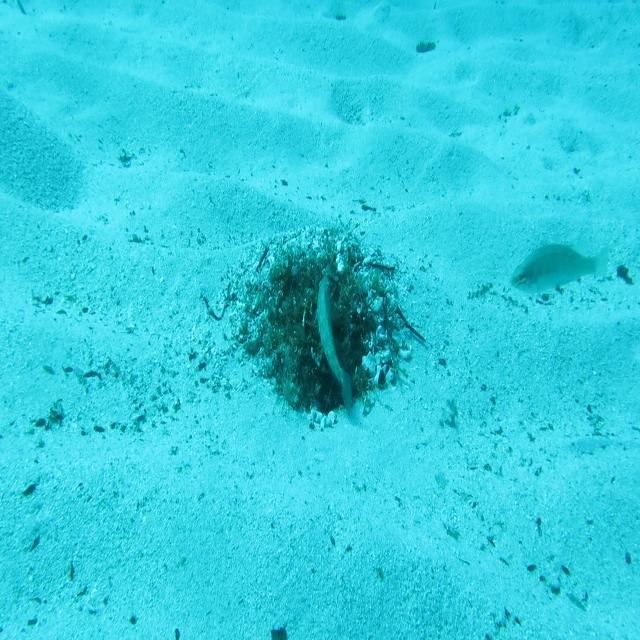FAN: (314, 270, 356, 419)
core_nest: (292, 269, 334, 302)
female: (509, 230, 611, 304)
nest: (218, 210, 416, 442)
vegetation: (416, 40, 436, 56), (617, 265, 632, 285), (272, 626, 288, 640)
